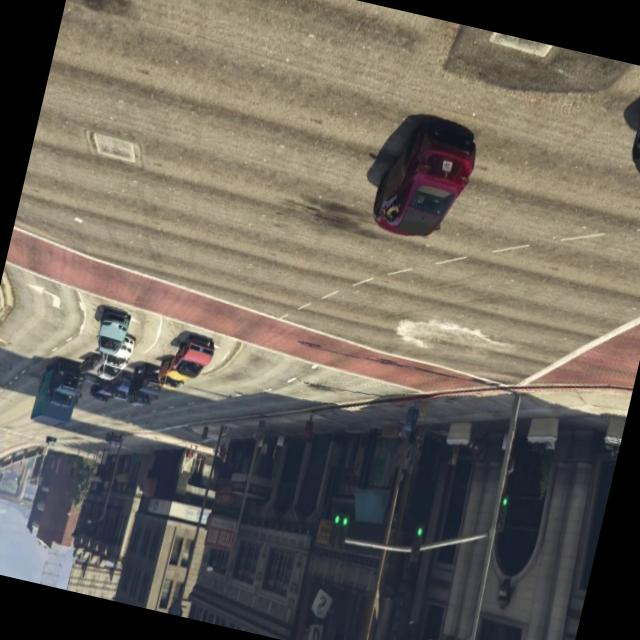Green-Signal: (318, 490, 362, 562), (488, 474, 522, 544), (402, 511, 432, 574)
